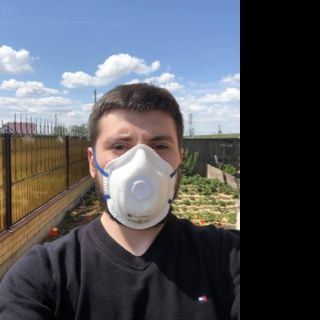with_mask: (99, 127, 180, 230)
